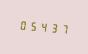five: (28, 18, 37, 33)
four: (38, 19, 47, 34)
seven: (58, 21, 67, 36)
three: (48, 20, 57, 35)
zero: (18, 17, 27, 32)
